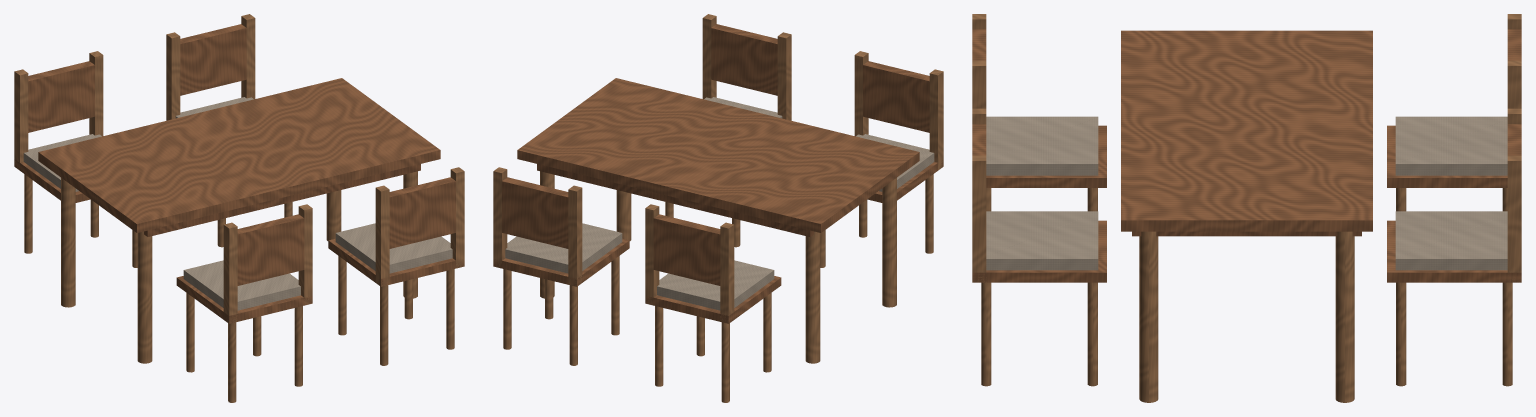
The model's file is dining_ajloun.glb.
3 renders of one model, left to right at view 1: azimuth 30°, elevation 25°; view 2: azimuth 150°, elevation 25°; view 3: azimuth 270°, elevation 25°, orthographic. The views are drawn at different scales.
Visible parts, largest first — view 1: Dining_Ajloun; view 2: Dining_Ajloun; view 3: Dining_Ajloun.
Boxes of the visible parts, x1,y1,x2,y2 form: Dining_Ajloun: [14, 14, 464, 402]; Dining_Ajloun: [493, 14, 943, 402]; Dining_Ajloun: [972, 14, 1521, 402].
Size of the model in its own units: 1.6 by 0.9 by 1.96.
Materials: 4 (4 with a texture image).
